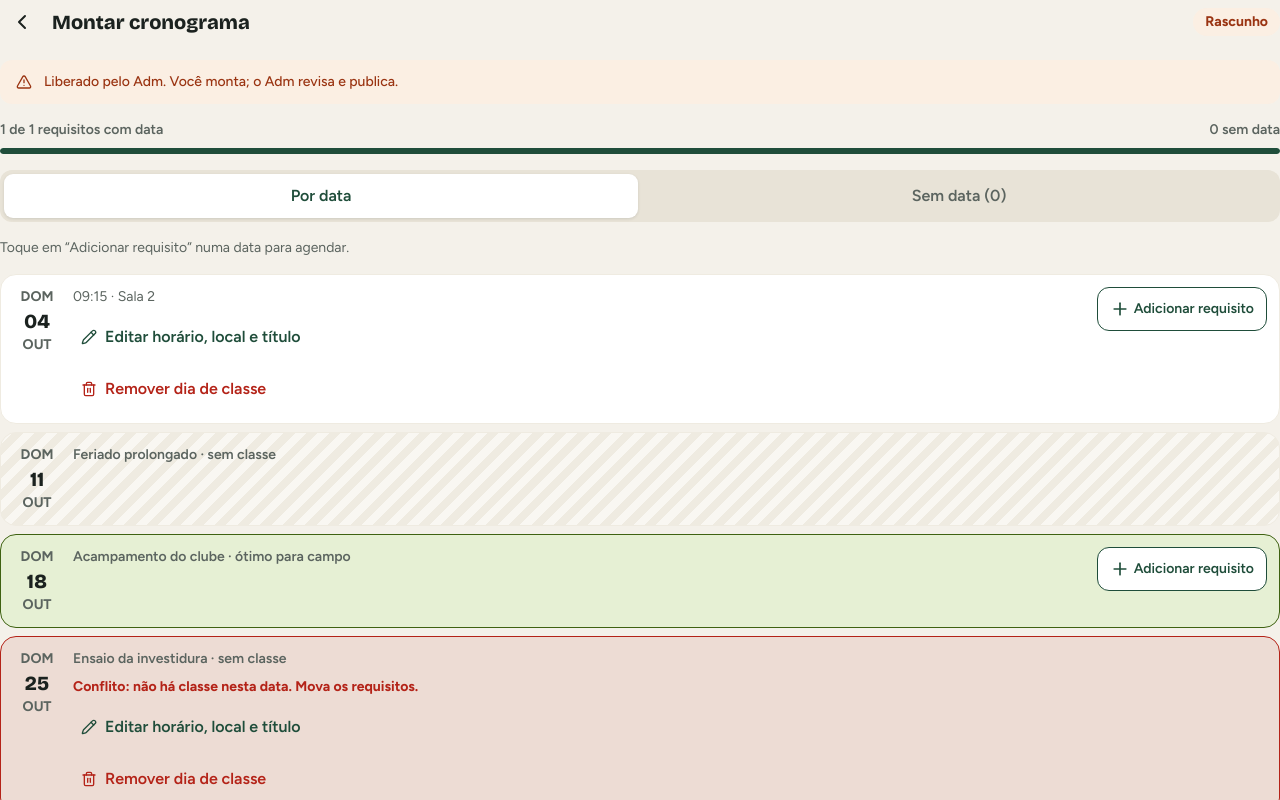
Scenario: I3b · montar › folha sem requisitos livres diz que todos já têm data
Expected: the text "1 de 1 requisitos com data" is shown, [0, 120, 163, 140]
Click the button with aria-label "Adicionar requisito nesta data" at (1182, 309), box [1097, 287, 1267, 331]
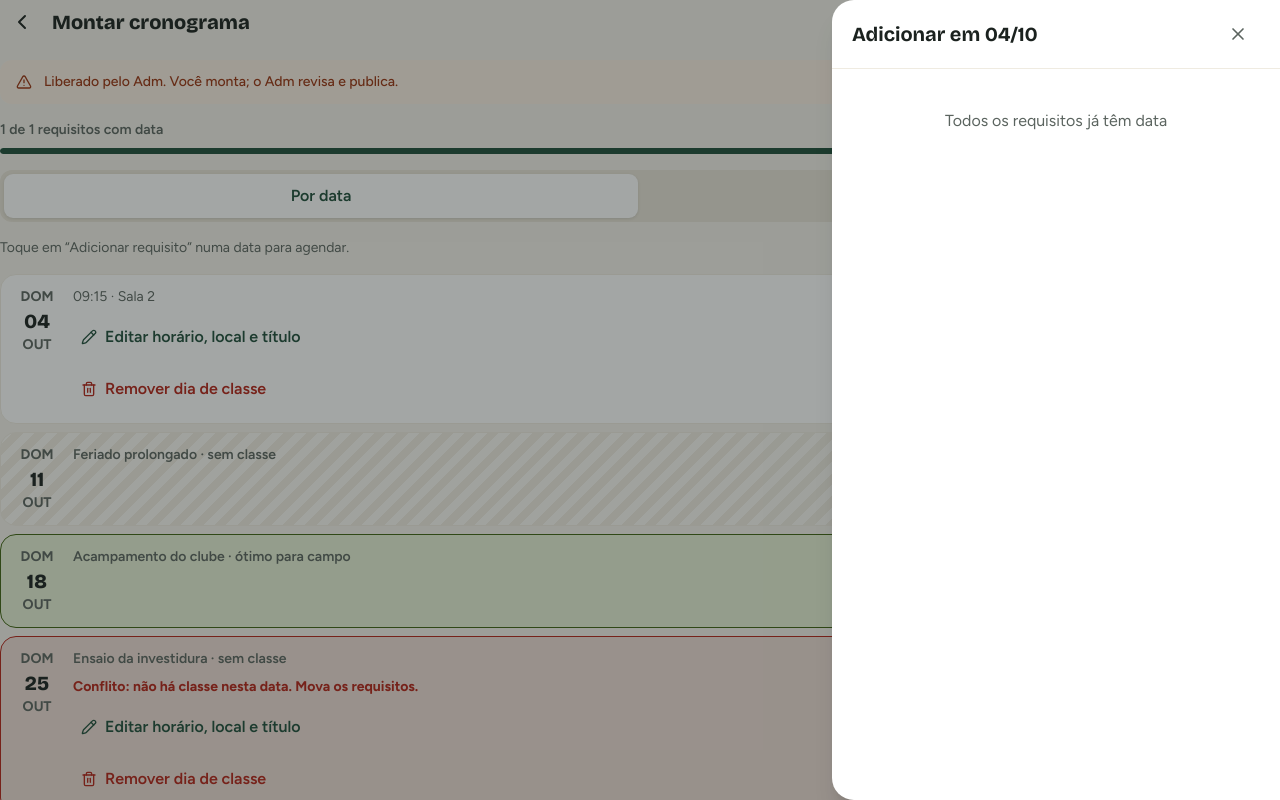
Expected: the text "Todos os requisitos já têm data" is shown, [945, 111, 1167, 130]
